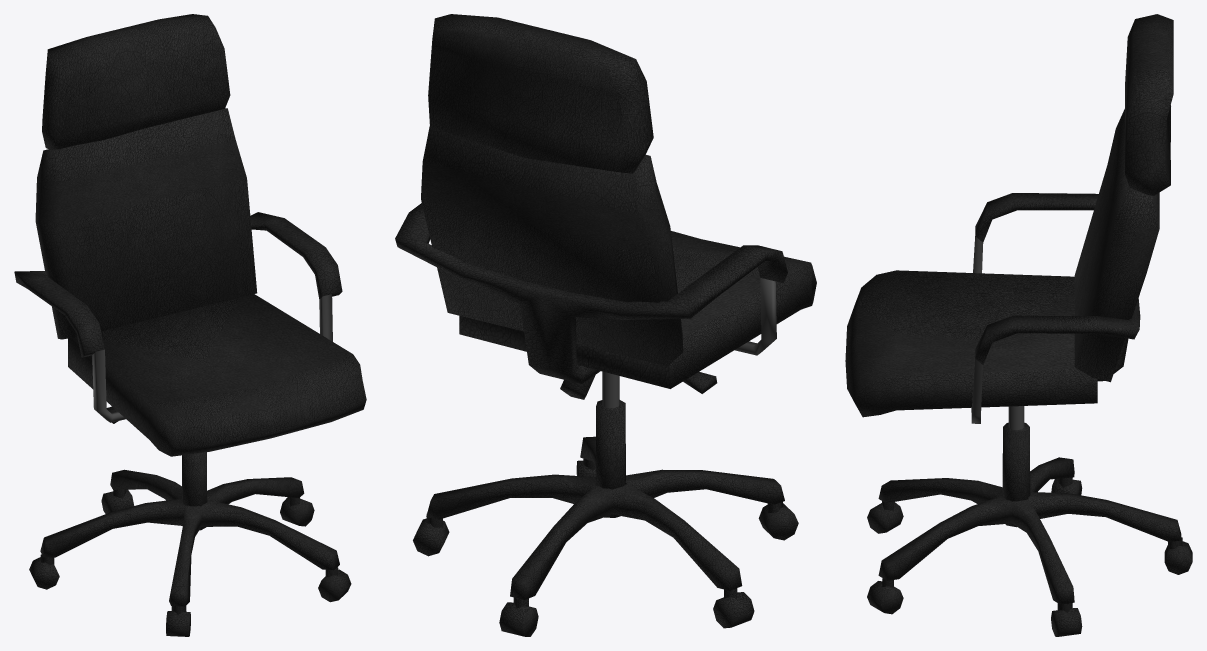
The model's file is Chair 3.FBX.
3 views of the same model, side by side, from view 1: azimuth 30°, elevation 25°; view 2: azimuth 150°, elevation 25°; view 3: azimuth 270°, elevation 25° (orthographic). The views are drawn at different scales.
Visible parts, largest first — view 1: chair 3; view 2: chair 3; view 3: chair 3.
Part boxes in pixels (box(x1,y1,x2,y2)): chair 3: box(14, 14, 366, 636); chair 3: box(395, 14, 816, 636); chair 3: box(845, 14, 1192, 636).
Bounding box in the file's own units: 68.24 × 115 × 69.17.
Materials: 2 (1 with a texture image).
